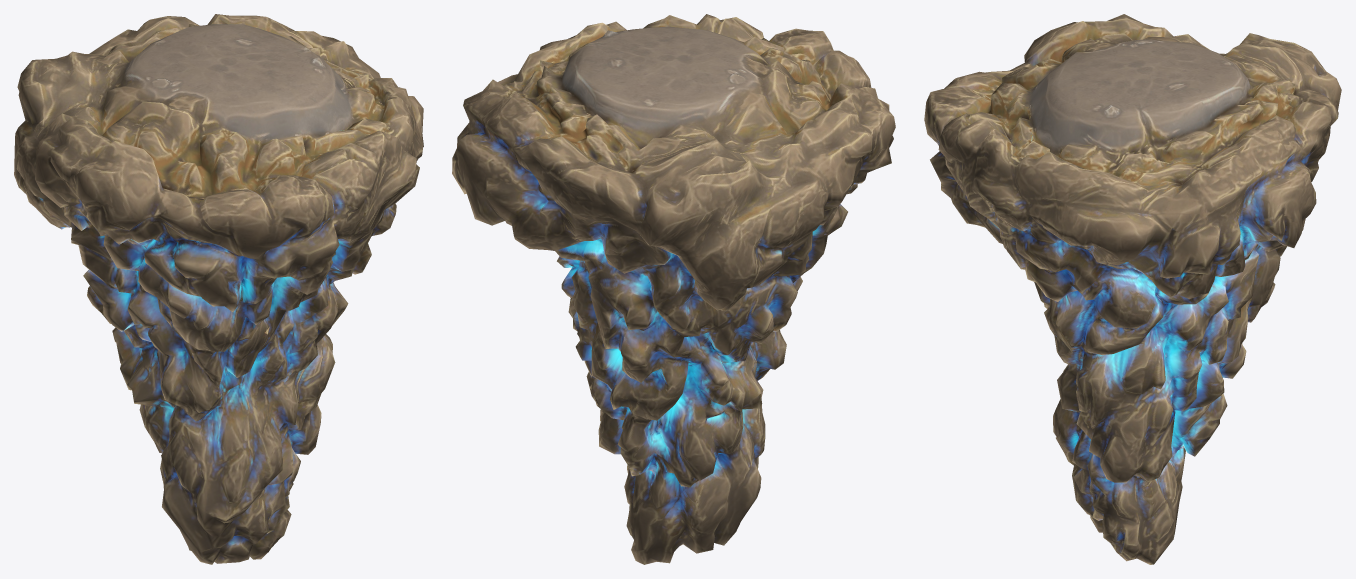
Rendered from platform.glb.
3 views of the same model, side by side, from view 1: azimuth 30°, elevation 25°; view 2: azimuth 150°, elevation 25°; view 3: azimuth 270°, elevation 25° (orthographic). The views are drawn at different scales.
Visible parts, largest first — view 1: g; view 2: g; view 3: g.
Boxes of the visible parts, x1,y1,x2,y2 form: g: [14, 14, 423, 564]; g: [452, 14, 895, 564]; g: [924, 14, 1341, 564].
Size of the model in its own units: 1.53 by 2 by 1.56.
Materials: 1 (1 with a texture image).
